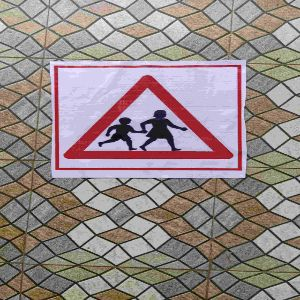schools: (57, 70, 240, 169)
